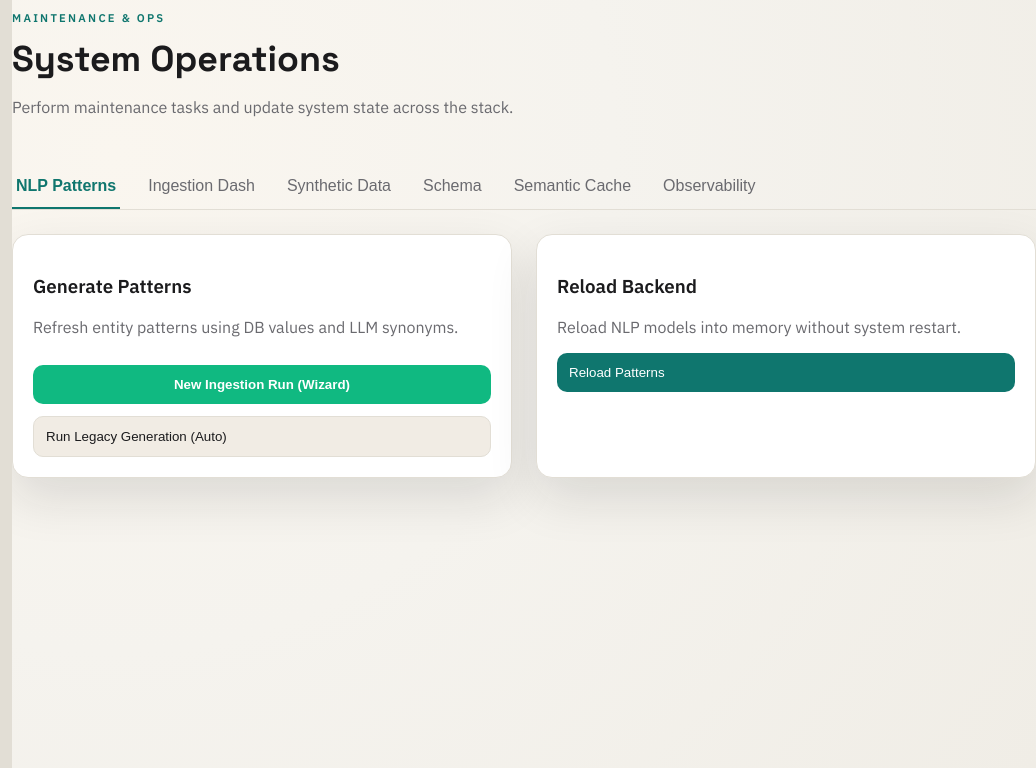
SystemOperations › streams pattern generation logs
Click the button "Run Legacy Generation (Auto)" at (136, 436), box [33,416,491,457]
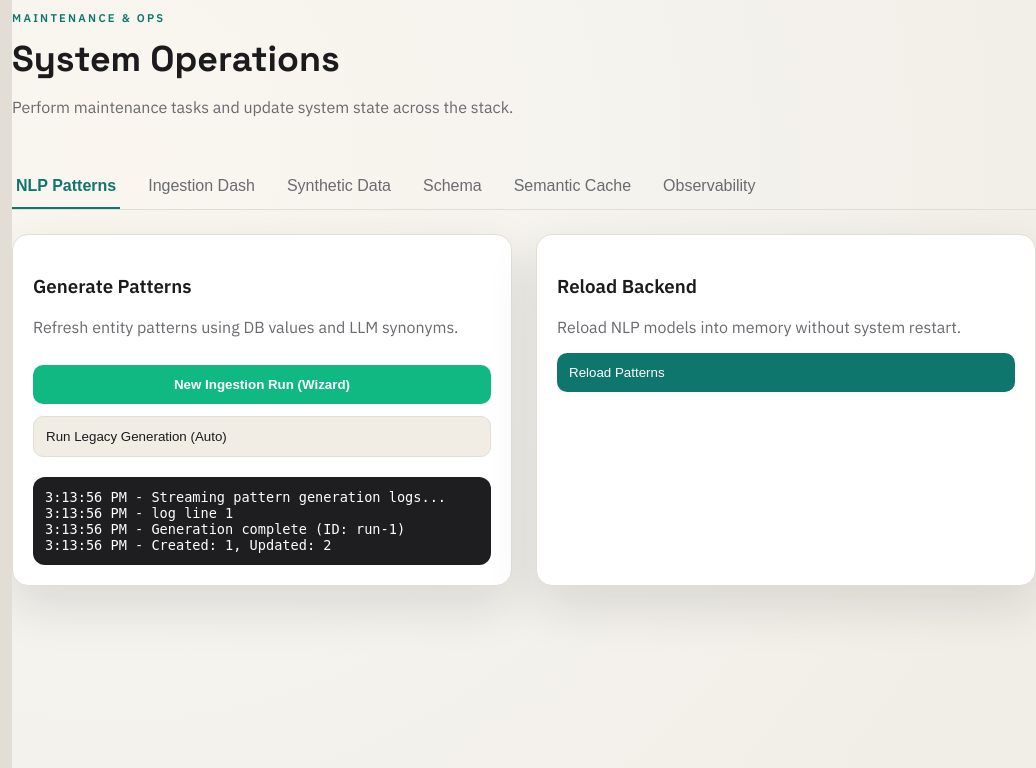
Now the text "3:13:56 PM - log line 1" is shown, box [45,505,233,521]
Now the text "3:13:56 PM - Generation complete (ID: run-1)" is shown, box [45,521,405,537]
